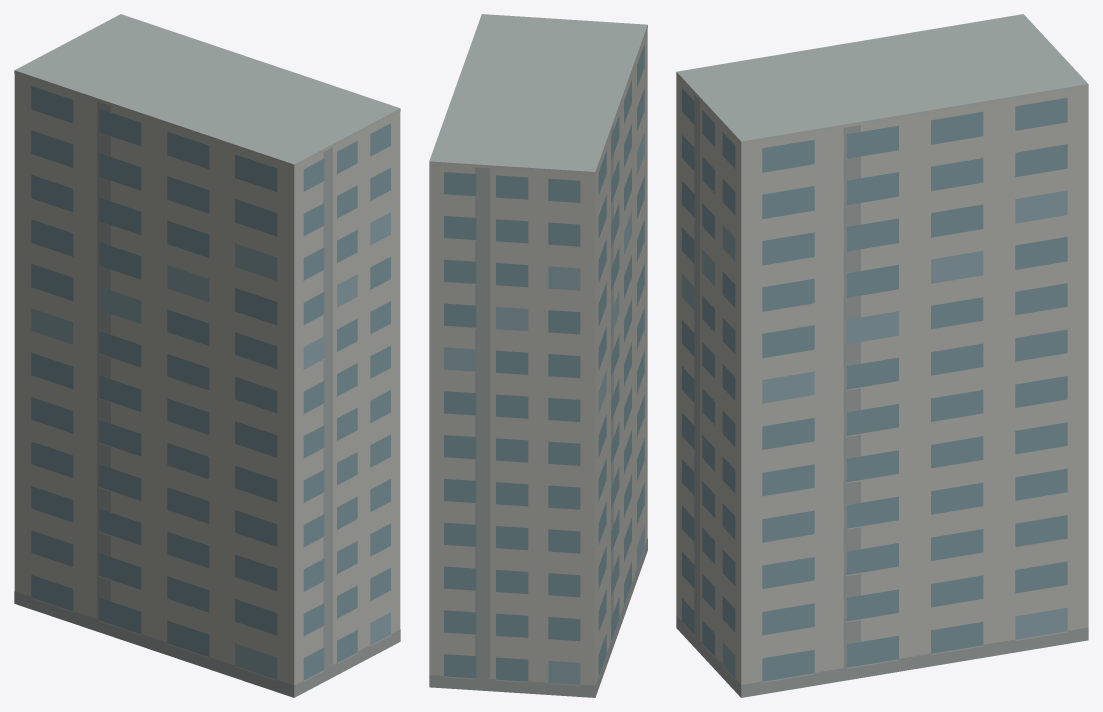
Rendered from residential-d5cee200-e942-4640-aa60-0ddcc2e9ee2d.glb.
3 views of the same model, side by side, from view 1: azimuth 30°, elevation 25°; view 2: azimuth 150°, elevation 25°; view 3: azimuth 270°, elevation 25° (orthographic). The views are drawn at different scales.
Parts seen in each view (by area): view 1: residential-d5cee200-e942-4640-aa60-0ddcc2e9ee2d.tmp; view 2: residential-d5cee200-e942-4640-aa60-0ddcc2e9ee2d.tmp; view 3: residential-d5cee200-e942-4640-aa60-0ddcc2e9ee2d.tmp.
Part boxes in pixels (x1,y1,x2,y2): residential-d5cee200-e942-4640-aa60-0ddcc2e9ee2d.tmp: (14,14,400,697); residential-d5cee200-e942-4640-aa60-0ddcc2e9ee2d.tmp: (429,14,647,697); residential-d5cee200-e942-4640-aa60-0ddcc2e9ee2d.tmp: (676,14,1088,697).
Size of the model in its own units: 19.67 by 40 by 26.86.
